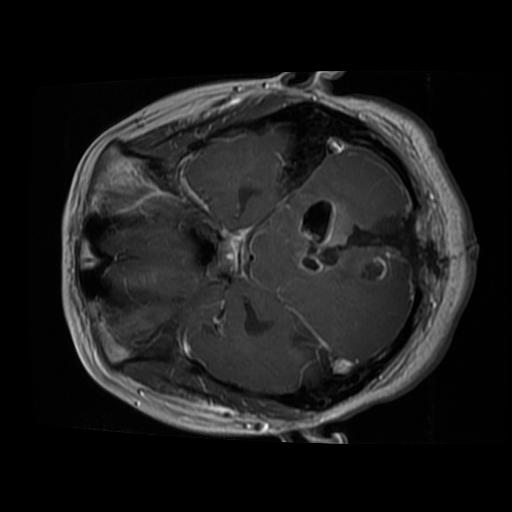glioma: (296, 195, 410, 288)
